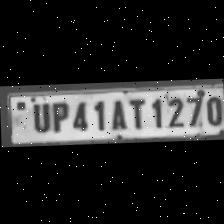0: (202, 91, 222, 124)
1: (89, 96, 107, 130), (146, 94, 164, 128)
2: (162, 94, 184, 128)
4: (68, 97, 90, 131)
7: (184, 90, 202, 126)
A: (105, 94, 127, 130)
P: (48, 98, 68, 132)
T: (126, 95, 146, 129)
U: (27, 100, 51, 132)
